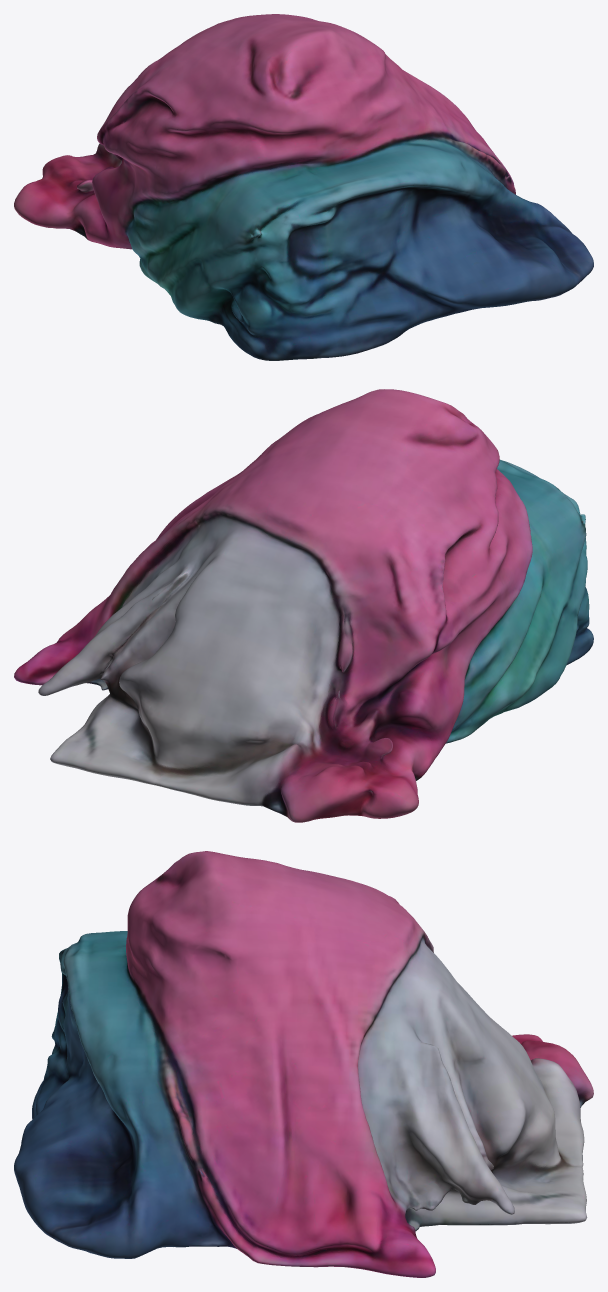
The model's file is sacks3.glb.
3 renders of one model, top to bottom at view 1: azimuth 30°, elevation 25°; view 2: azimuth 150°, elevation 25°; view 3: azimuth 270°, elevation 25°, orthographic. The views are drawn at different scales.
Parts seen in each view (by area): view 1: world; view 2: world; view 3: world.
Boxes of the visible parts, <box> form: world: <box>14,14,593,360</box>; world: <box>14,389,593,822</box>; world: <box>14,851,593,1277</box>.
Size of the model in its own units: 0.447 by 0.2693 by 0.4972.
1 material, 1 textured.
